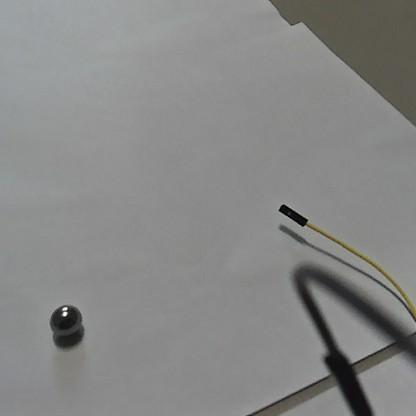ironball: (49, 303, 81, 338)
